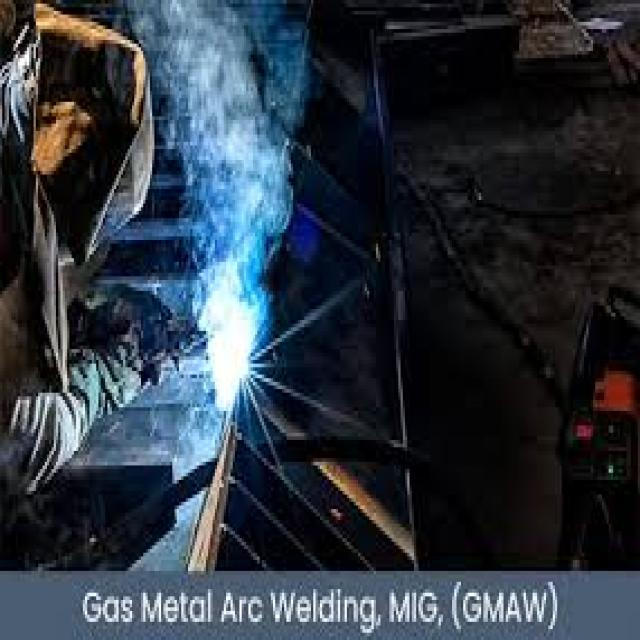welding: (211, 300, 256, 396)
